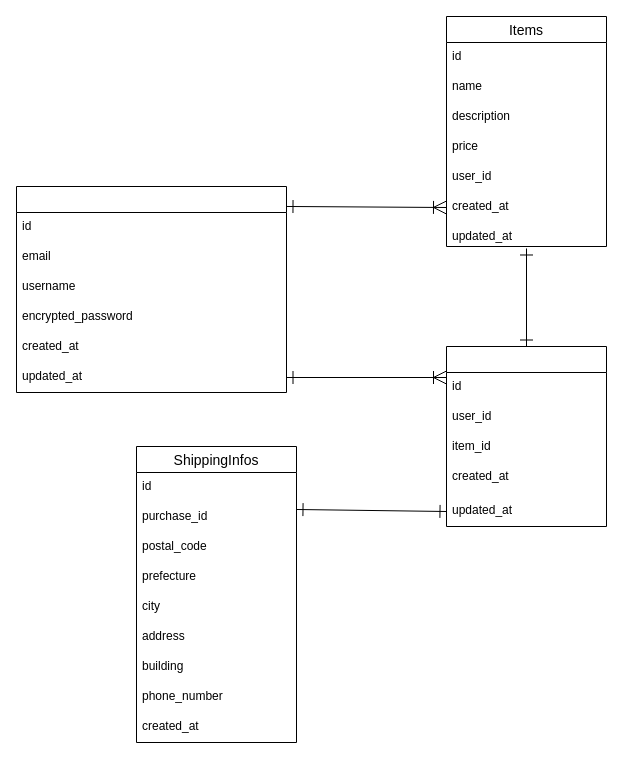
The diagram is 623 pixels wide and 759 high, and some of its shapes have lost their labels. Here are the shapes that lost their labels. From the top down, the box of each, then its label:
(16, 186, 286, 392): Users
(446, 346, 606, 526): Purchases
